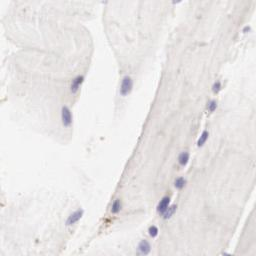nucleus: (66, 207, 84, 224), (119, 76, 134, 95), (156, 195, 169, 214), (164, 203, 178, 220), (61, 105, 72, 126), (137, 240, 150, 256), (72, 76, 84, 93), (197, 131, 210, 146), (179, 149, 189, 166), (207, 99, 218, 114), (212, 80, 221, 95), (148, 225, 159, 237), (176, 176, 186, 188), (112, 199, 121, 212), (242, 26, 251, 32), (171, 1, 184, 4), (222, 253, 232, 256)
